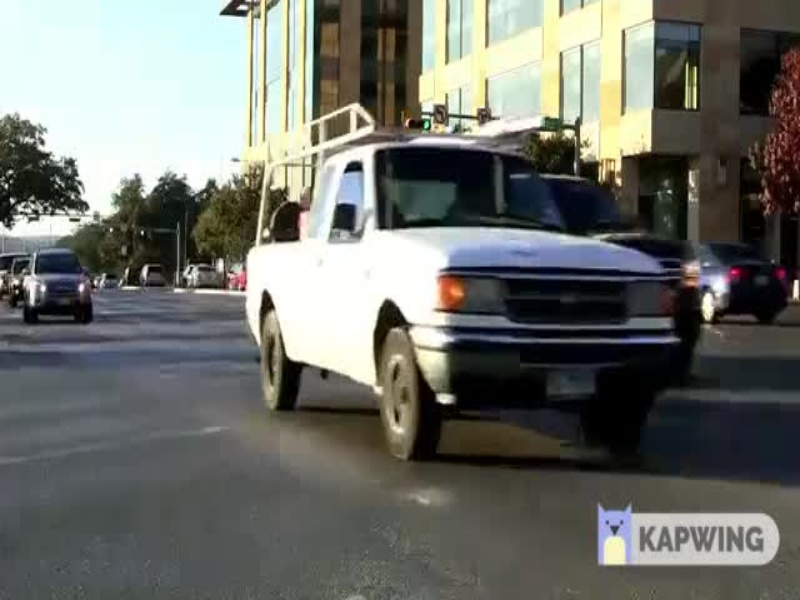suv: (19, 246, 102, 326)
truck: (221, 130, 677, 482)
